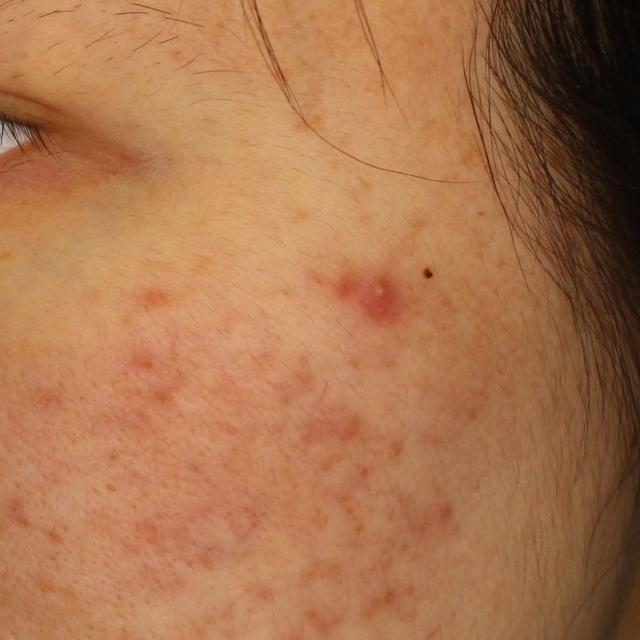blackhead: (414, 261, 443, 286)
